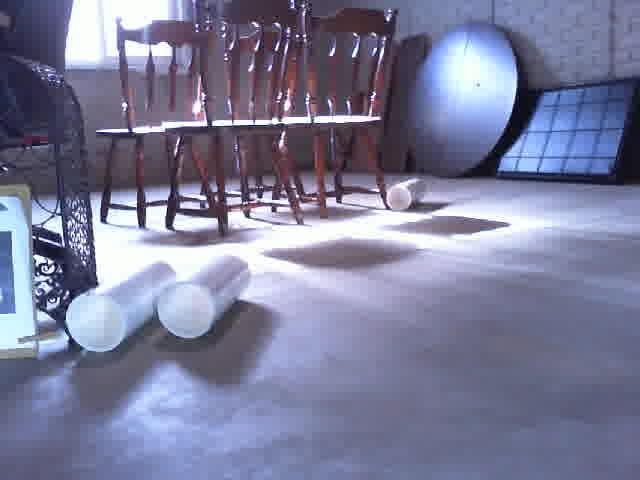coral: (60, 260, 178, 355), (154, 248, 257, 343), (385, 174, 429, 212)
